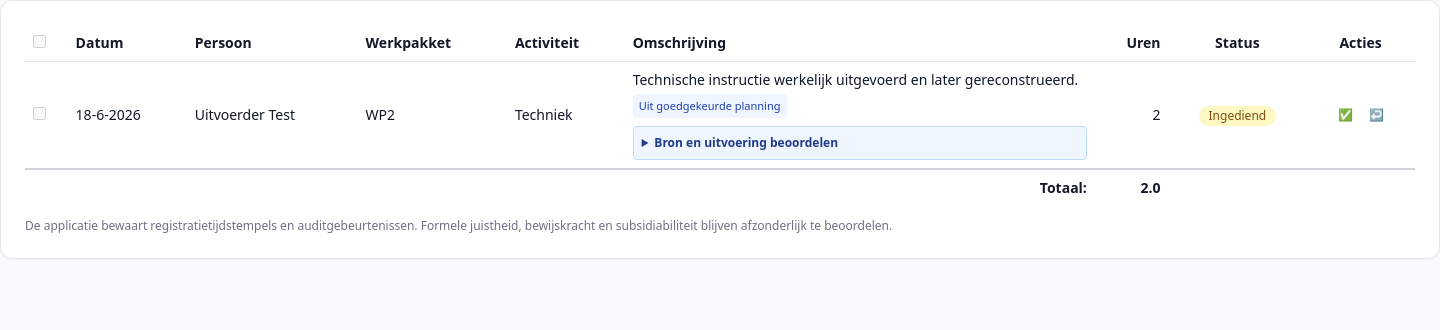
Scenario: HoursList historische reconstructies › blijft fail-closed wanneer planninggoedkeuring geen leesbare foutresponse geeft
Step 1. Click the button named "Beoordelen en goedkeuren planninguur" → click(1345, 115), box [1332, 103, 1359, 127]
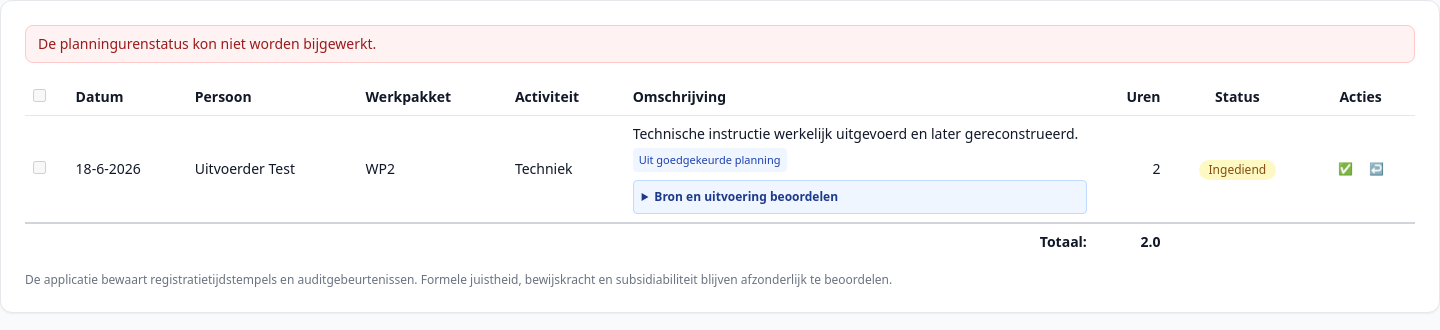
Expected: the message shows "planningurenstatus kon niet worden bijgewerkt", [38, 34, 376, 53]
